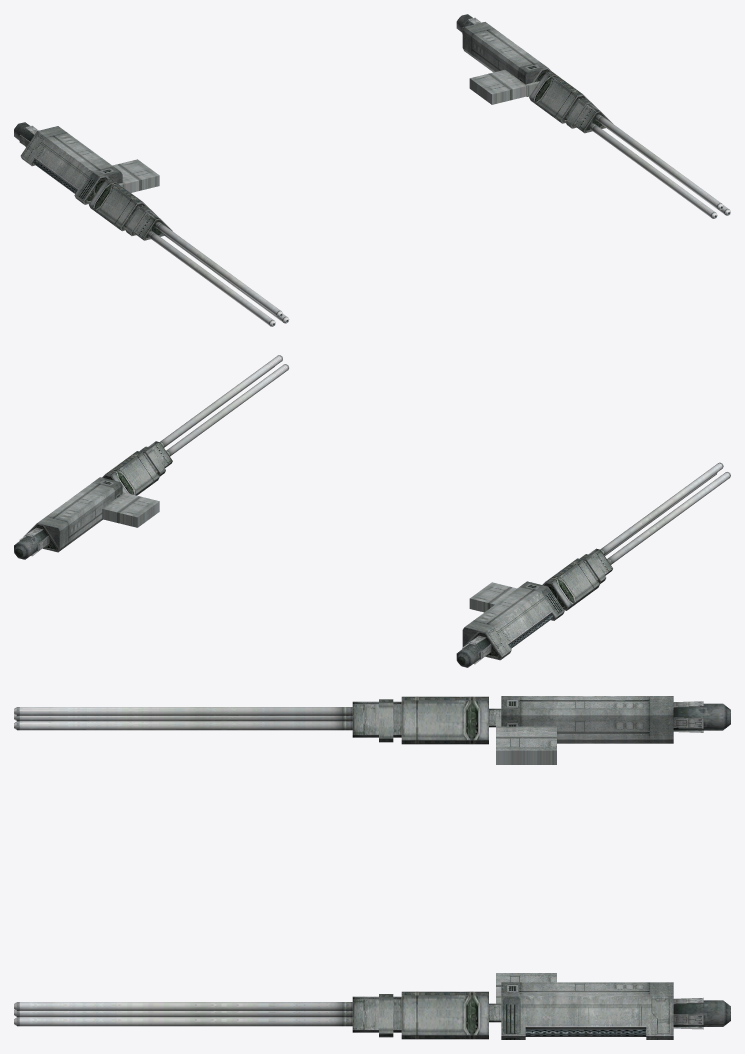
The model's file is awing_weapon_s04_l0.fbx.
3 renders of one model, top to bottom at view 1: azimuth 30°, elevation 25°; view 2: azimuth 150°, elevation 25°; view 3: azimuth 270°, elevation 25°, orthographic. The views are drawn at different scales.
Visible parts, largest first — view 1: mesh_node; view 2: mesh_node; view 3: mesh_node.
Boxes of the visible parts, x1,y1,x2,y2 form: mesh_node: (14,14,730,326); mesh_node: (14,355,730,667); mesh_node: (14,696,730,1039).
Size of the model in its own units: 9.73 by 0.4698 by 9.14.
